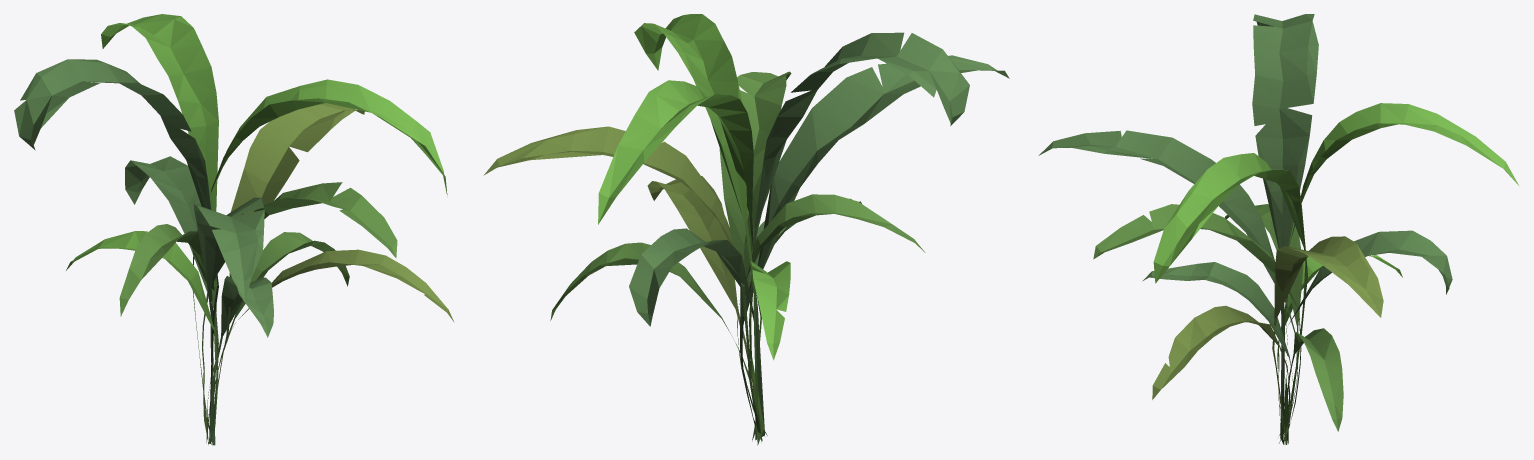
Rendered from Jungle_ThinFern_C.fbx.
3 renders of one model, left to right at view 1: azimuth 30°, elevation 25°; view 2: azimuth 150°, elevation 25°; view 3: azimuth 270°, elevation 25°, orthographic. The views are drawn at different scales.
Parts seen in each view (by area): view 1: Jungle_ThinFern_C; view 2: Jungle_ThinFern_C; view 3: Jungle_ThinFern_C.
Part boxes in pixels (box(x1,y1,x2,y2)): Jungle_ThinFern_C: box(14, 14, 454, 445); Jungle_ThinFern_C: box(483, 14, 1009, 445); Jungle_ThinFern_C: box(1038, 14, 1518, 444).
Size of the model in its own units: 2.94 by 2.9 by 3.43.
1 material, 1 textured.
